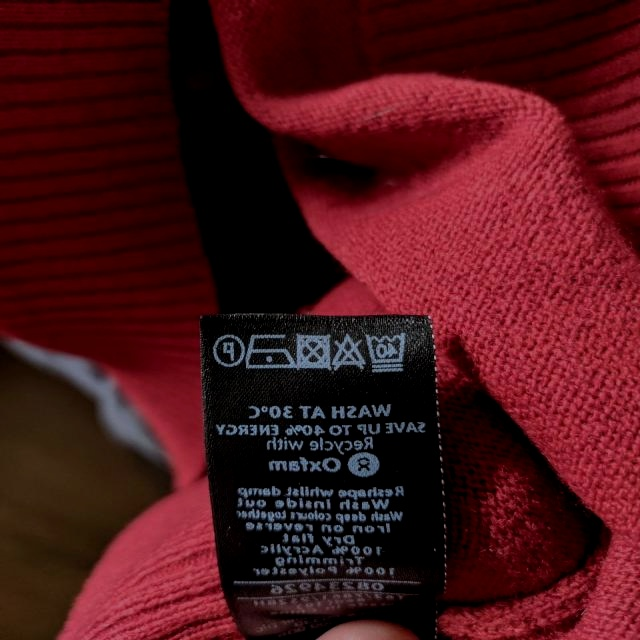40C: (363, 329, 406, 373)
DN_bleach: (331, 331, 365, 369)
DN_tumble_dry: (294, 331, 330, 370)
dry_clean_any_solvent_except_trichloroethylene: (207, 330, 244, 369)
iron_low: (244, 331, 294, 371)
